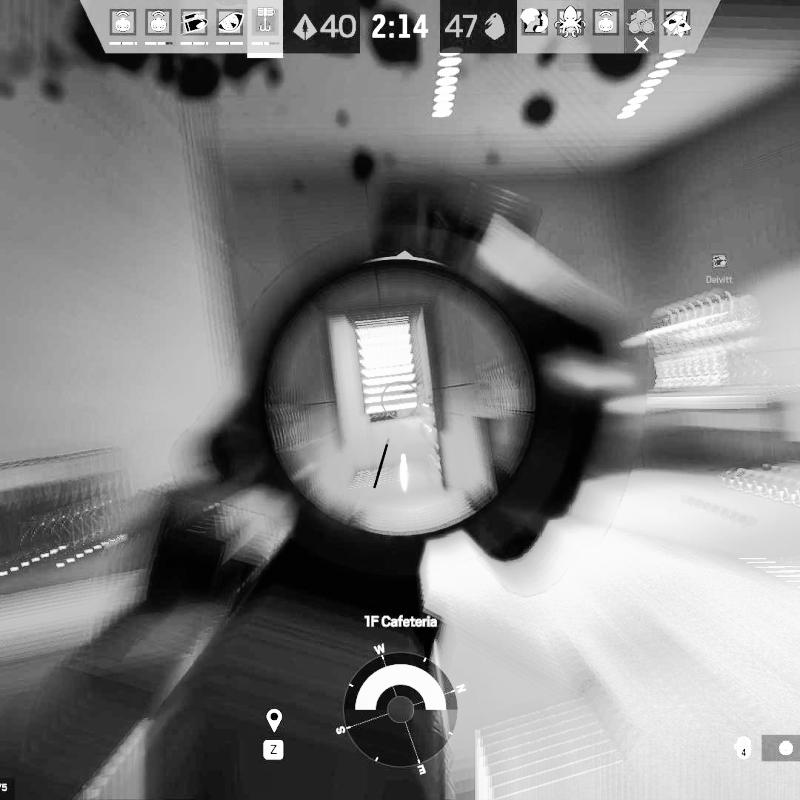Character: (418, 396, 443, 489)
Friend_label: (704, 252, 738, 286)
